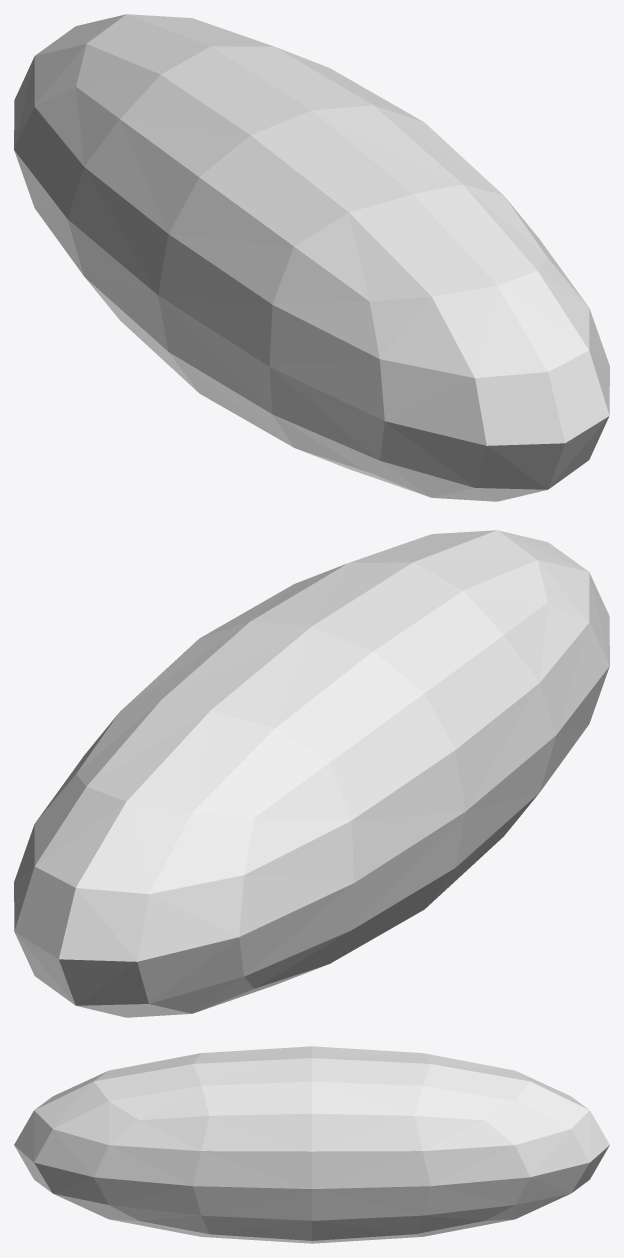
Rendered from bullet.dae.
3 views of the same model, one above another, from view 1: azimuth 30°, elevation 25°; view 2: azimuth 150°, elevation 25°; view 3: azimuth 270°, elevation 25° (orthographic). The views are drawn at different scales.
Visible parts, largest first — view 1: Cube; view 2: Cube; view 3: Cube.
Part boxes in pixels (x1,y1,x2,y2): Cube: [14, 14, 609, 501]; Cube: [14, 530, 609, 1017]; Cube: [14, 1046, 609, 1243].
Size of the model in its own units: 0.2322 by 0.6622 by 0.213.
Materials: 1 (1 with a texture image).
